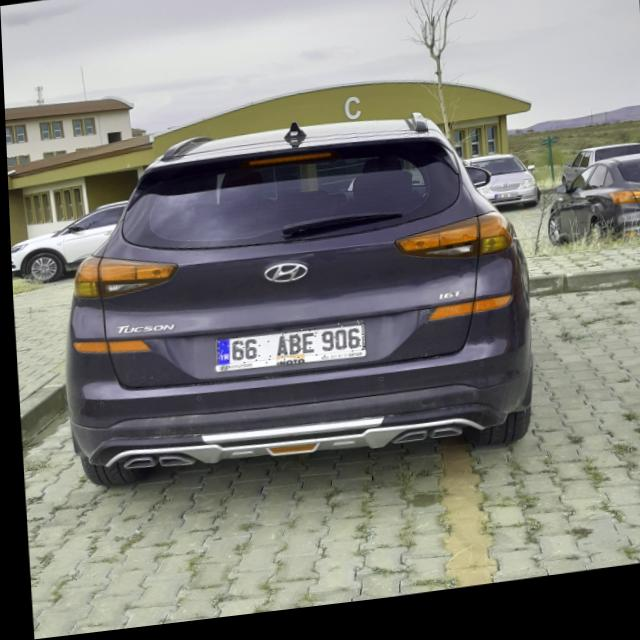license_plate: (213, 328, 361, 376)
